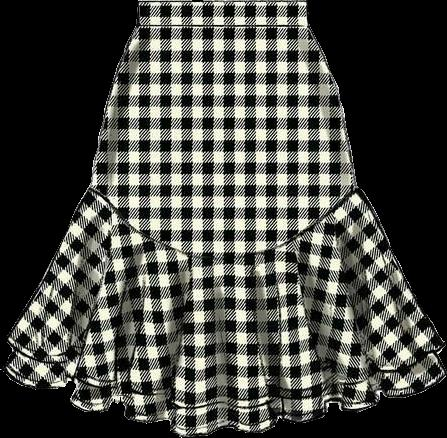Hemline: (7, 335, 446, 412), (1, 367, 446, 437)
Waistline: (90, 183, 358, 261), (135, 21, 308, 29), (138, 0, 308, 4)
